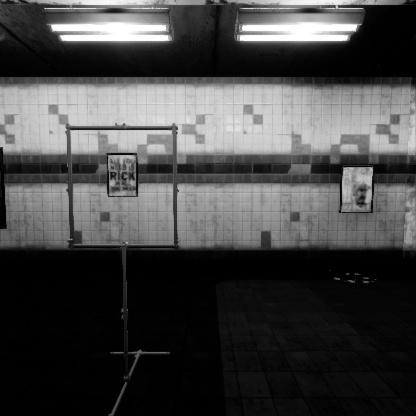gate: (66, 166, 188, 291)
